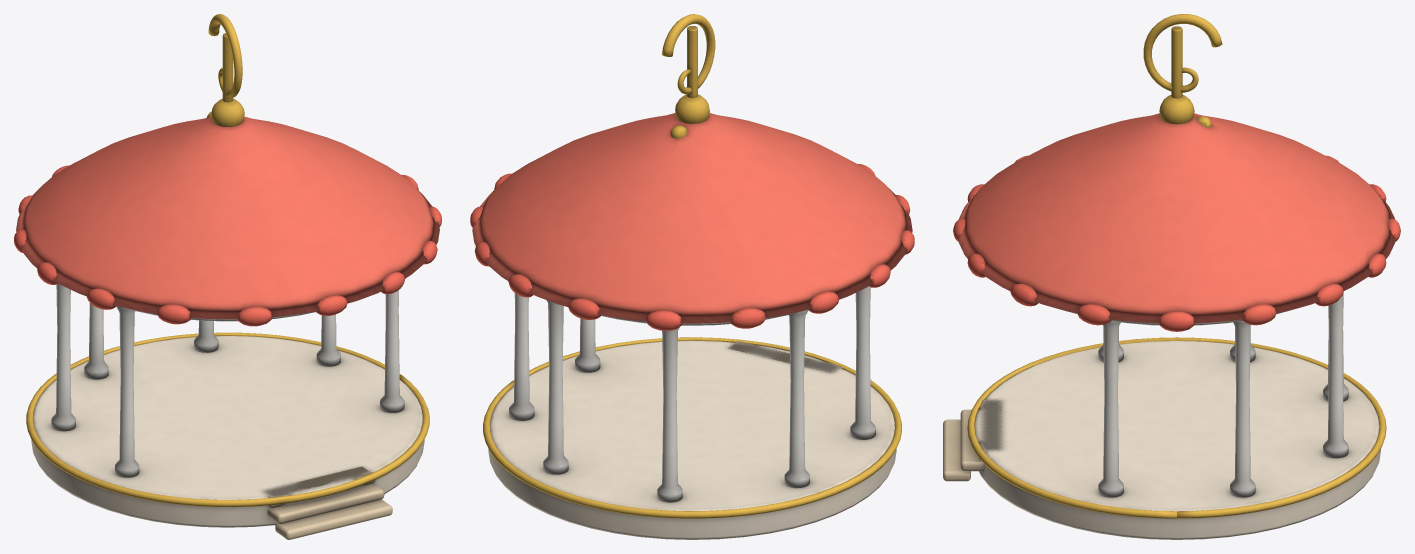
The model's file is Bandstand.fbx.
3 renders of one model, left to right at view 1: azimuth 30°, elevation 25°; view 2: azimuth 150°, elevation 25°; view 3: azimuth 270°, elevation 25°, orthographic. The views are drawn at different scales.
Parts seen in each view (by area): view 1: Bandstand_Body_LOD0; view 2: Bandstand_Body_LOD0; view 3: Bandstand_Body_LOD0.
Boxes of the visible parts, x1,y1,x2,y2 form: Bandstand_Body_LOD0: (14,14,441,539); Bandstand_Body_LOD0: (470,14,914,539); Bandstand_Body_LOD0: (943,14,1400,539).
Size of what is drawn, in the model's own units: 5.6 by 6.09 by 5.72.
